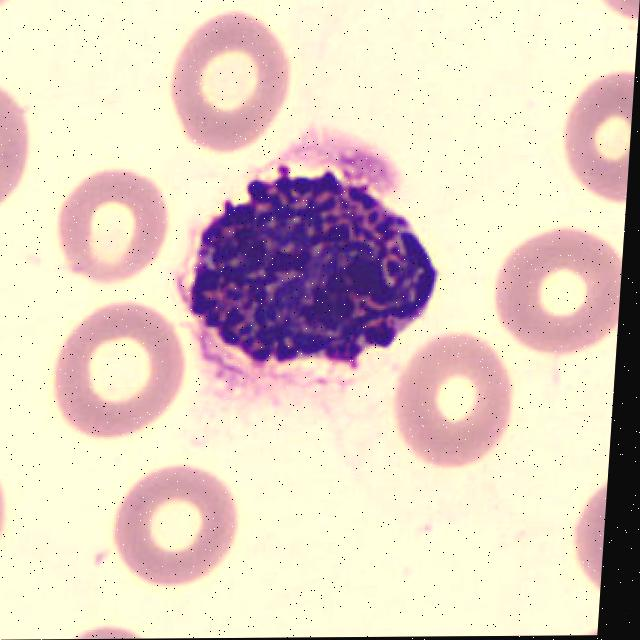basophil: (187, 168, 457, 363)
rbc: (152, 0, 320, 163), (39, 296, 198, 438), (107, 457, 267, 591), (377, 335, 527, 475), (492, 239, 624, 363), (52, 159, 184, 282), (546, 65, 635, 219), (0, 82, 44, 237), (567, 471, 608, 603), (0, 445, 13, 583), (46, 623, 156, 639), (584, 0, 640, 30), (561, 619, 598, 636)
